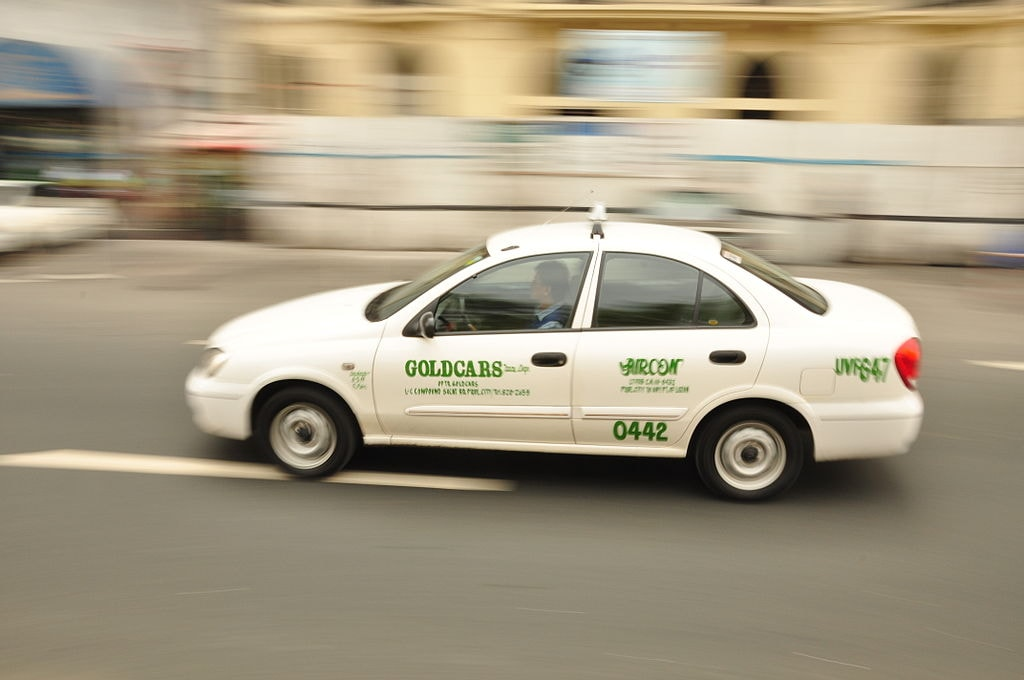car: (190, 204, 923, 505)
